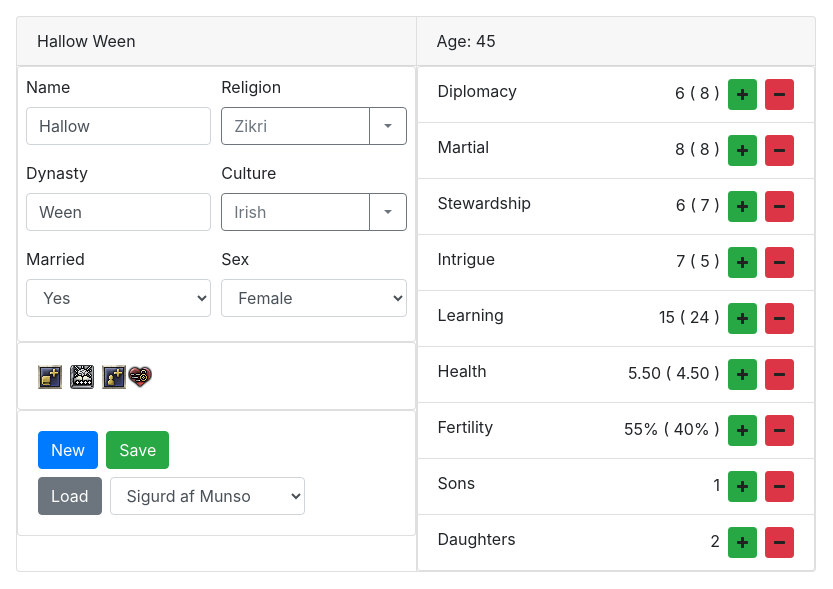
Test: selects the new saved character in the load list
Click the button with aria-label "Save Character Button".
click(138, 450)  # box left=106, top=431, right=169, bottom=469
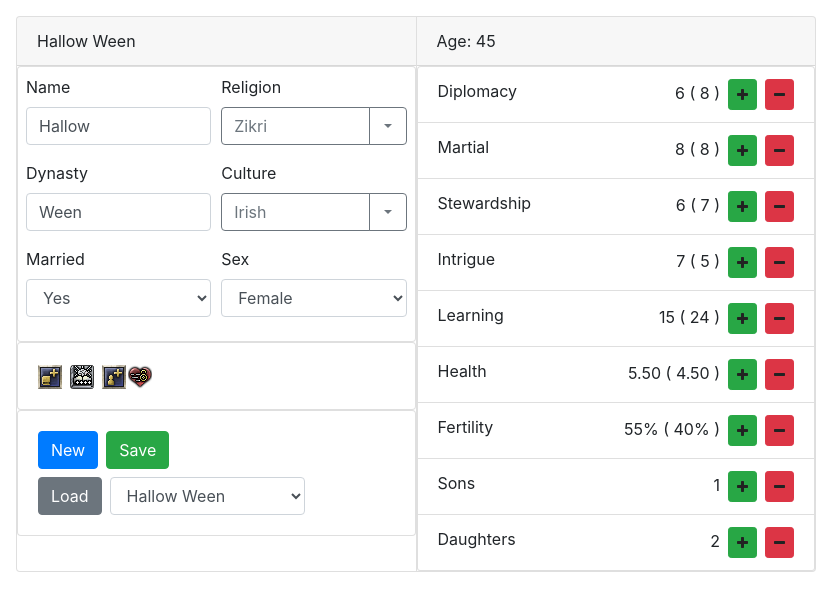
expect the dropdown named "Load Character Select" shows "Hallow Ween": met, box left=110, top=477, right=305, bottom=515
